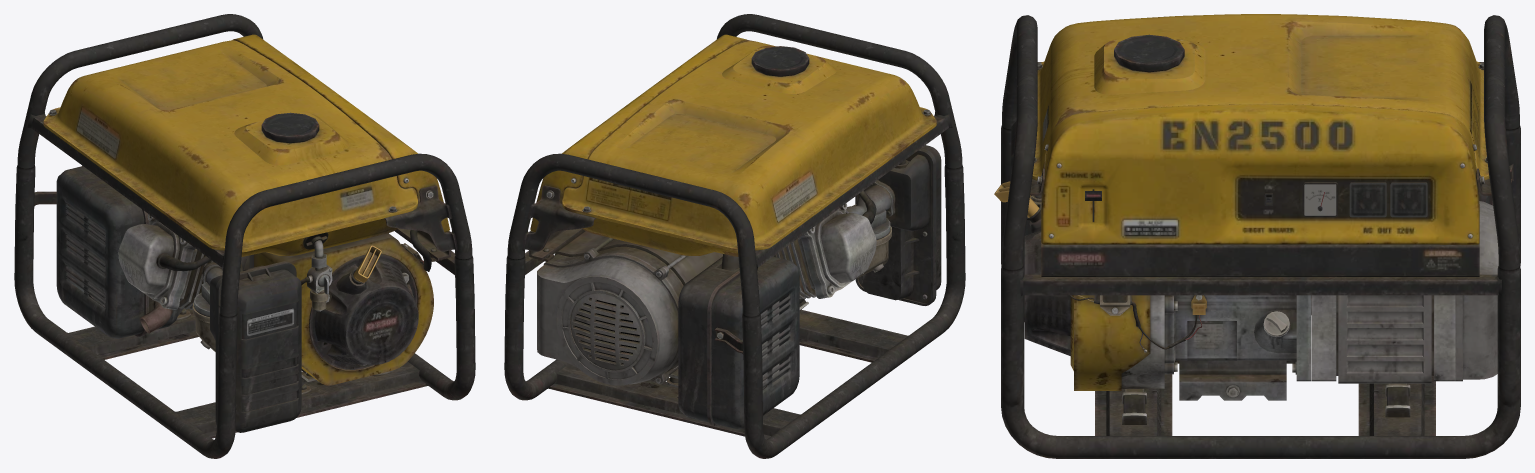
Rendered from generator.glb.
3 renders of one model, left to right at view 1: azimuth 30°, elevation 25°; view 2: azimuth 150°, elevation 25°; view 3: azimuth 270°, elevation 25°, orthographic. The views are drawn at different scales.
Parts seen in each view (by area): view 1: portable_generator; view 2: portable_generator; view 3: portable_generator.
Part boxes in pixels (x1,y1,x2,y2): portable_generator: (14, 14, 475, 458); portable_generator: (504, 14, 965, 458); portable_generator: (994, 14, 1520, 458).
Size of the model in its own units: 0.564 by 0.577 by 0.8183.
Materials: 2 (2 with a texture image).
